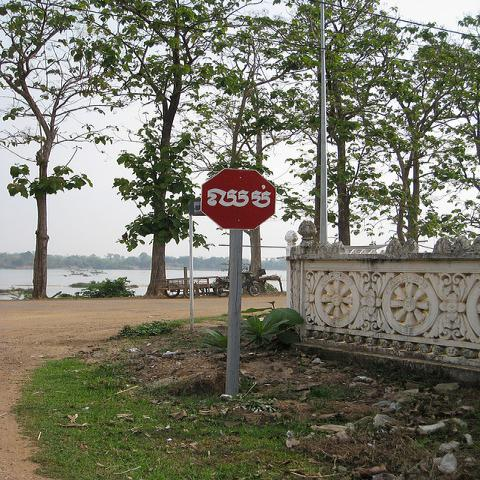motorcycle: (214, 272, 261, 297)
